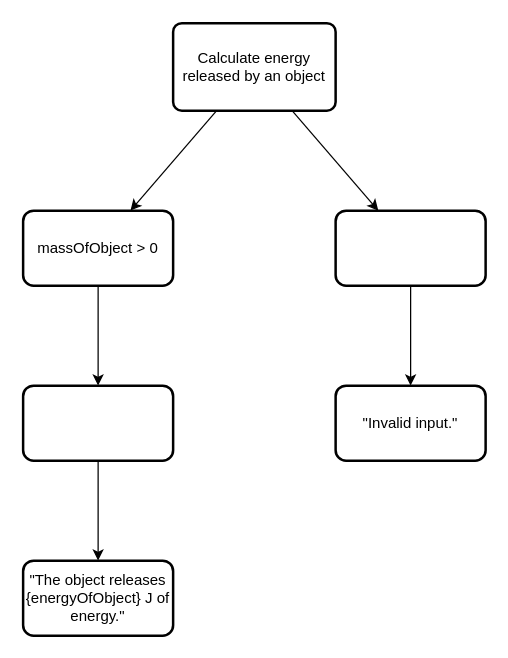
Image size: 508x658. Some labels were removed from this diagram. Each missing label, with the centre of its shape:
energyOfObject = speedOfLight * massOfObject^2: (x=97, y=422)
mass of object < 0: (x=410, y=247)
